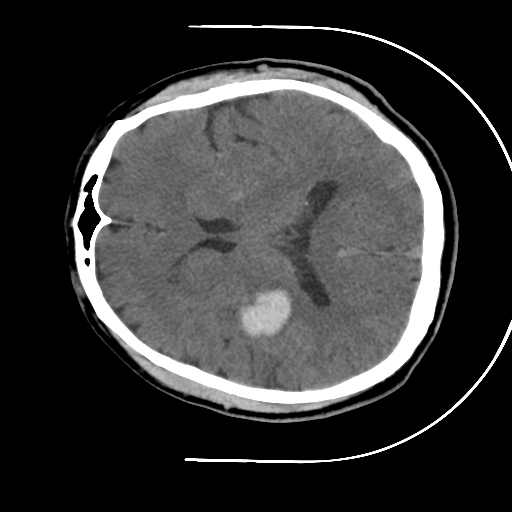a: (221, 275, 301, 348)
